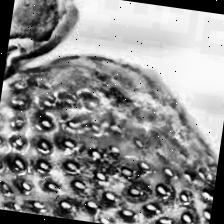Powdery Mildew Fruit: (0, 44, 224, 209)
